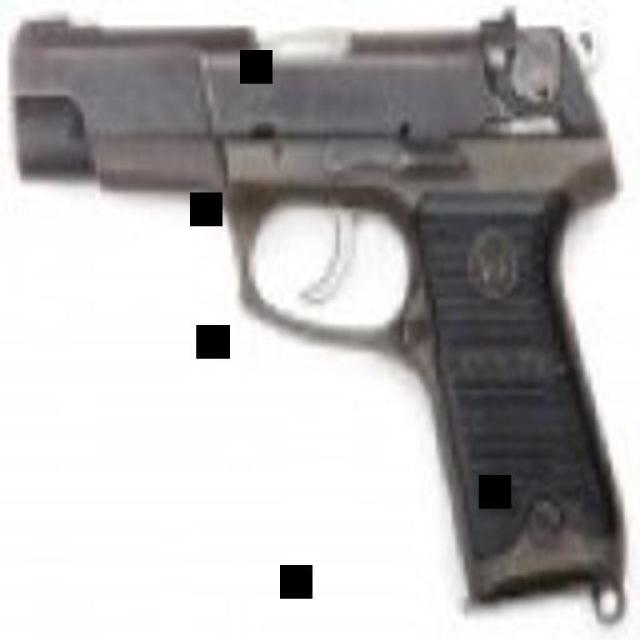gun: (10, 9, 614, 601)
